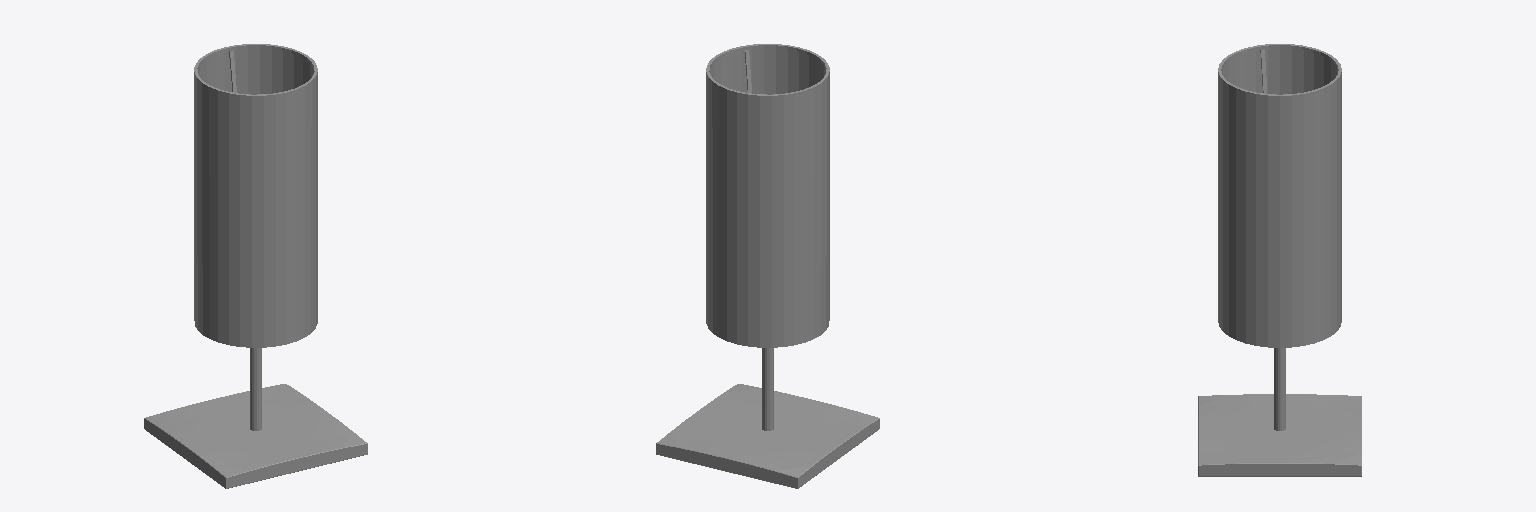
Rendered from lampa.obj.
The picture shows the model from 3 angles: view 1: azimuth 30°, elevation 25°; view 2: azimuth 150°, elevation 25°; view 3: azimuth 270°, elevation 25°; orthographic projection.
Bounding box in the file's own units: 2 × 5.01 × 2.